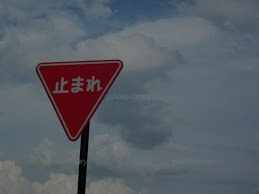Regulatory_sign_triangle: (34, 58, 126, 144)
